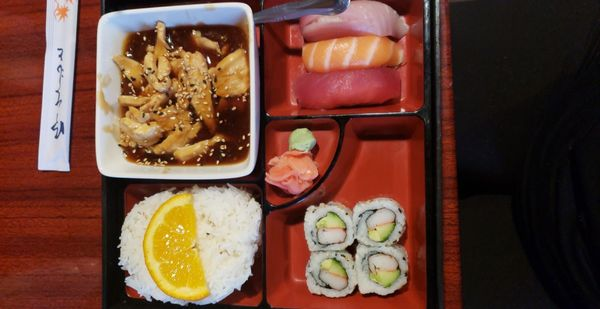sushi: (95, 3, 261, 181), (259, 2, 427, 118)
taco: (142, 191, 206, 301)
